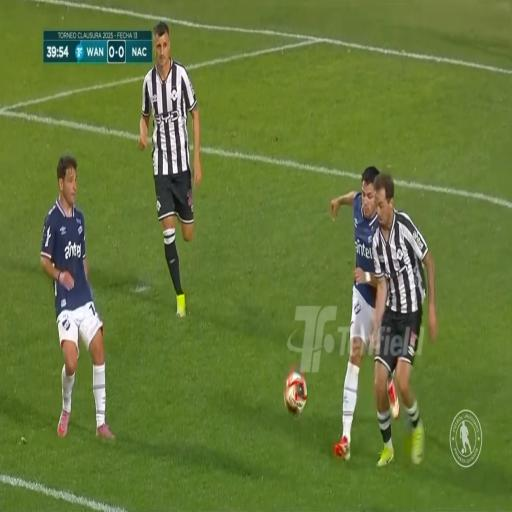Ball: (283, 366, 307, 418)
Player: (49, 152, 114, 444), (144, 29, 195, 309), (342, 149, 386, 456), (376, 174, 414, 468)
